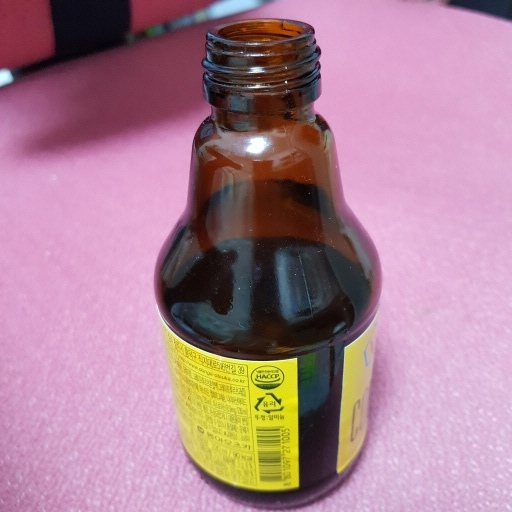Glass_3: (151, 17, 385, 512)
